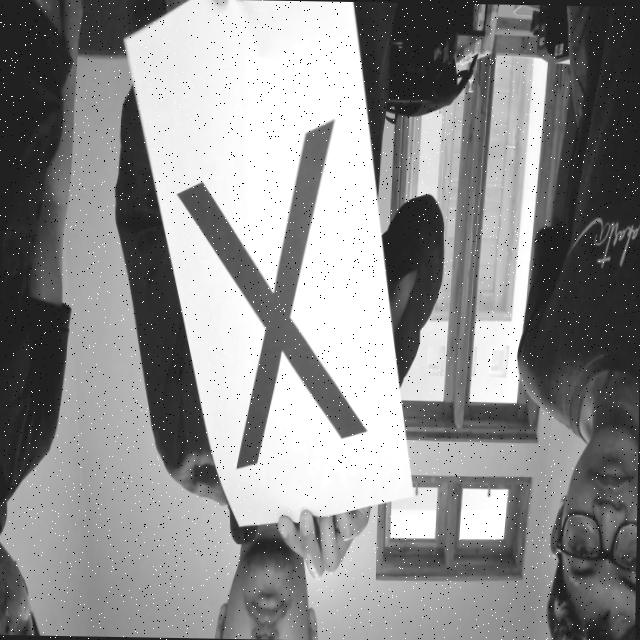x: (152, 95, 386, 496)
